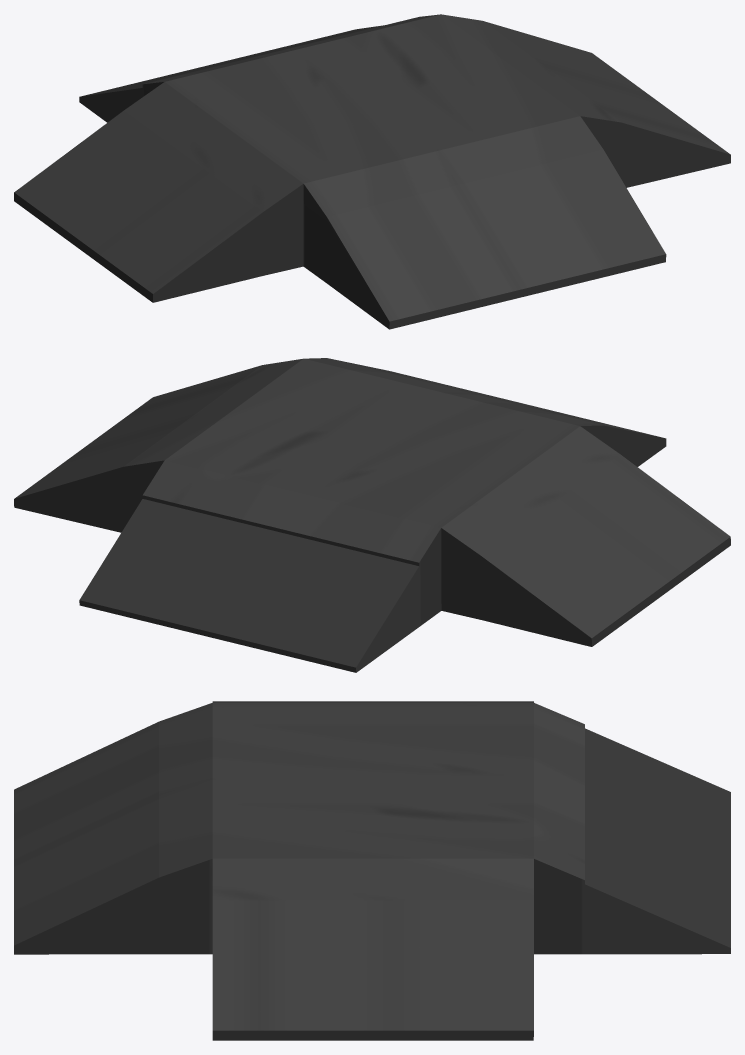
The model's file is platform.fbx.
The picture shows the model from 3 angles, top to bottom: view 1: azimuth 30°, elevation 25°; view 2: azimuth 150°, elevation 25°; view 3: azimuth 270°, elevation 25°; orthographic projection. The views are drawn at different scales.
Parts seen in each view (by area): view 1: Platform; view 2: Platform; view 3: Platform.
Part boxes in pixels (<box>): Platform: <box>14,14,730,329</box>; Platform: <box>14,358,730,672</box>; Platform: <box>14,701,730,1040</box>.
Size of the model in its own units: 2893 by 402 by 2689.
